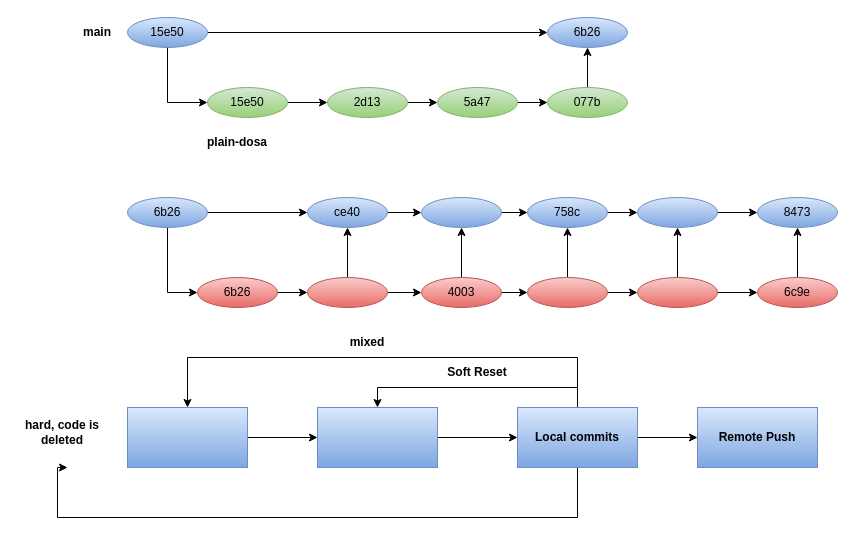
The diagram is 855 pixels wide and 543 high, and some of its shapes have lost their labels. The shapes that lost their labels are listed below. From the top down, each one's centre as x and y in pixels, then its label:
At point 461,212: "db7a".
At point 677,212: "afff".
At point 347,292: "cca7".
At point 567,292: "b387".
At point 677,292: "4d1a".
At point 187,437: "Workspace".
At point 377,437: "Staging Area".
